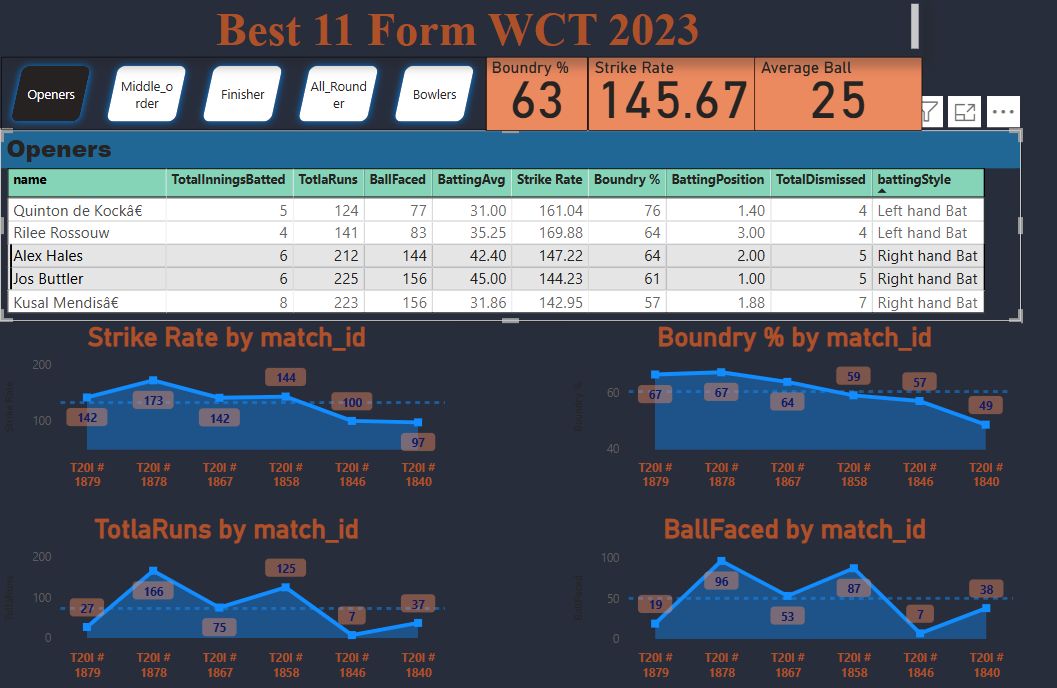

The page's visual inventory and layout, read from the dashboard file:
{"tool":"powerbi","page":{"name":"Openers","canvas":[1280,720],"ordinal":0},"visuals":[{"type":"tableEx","title":"Openers","fields":{"Values":["player.name","measure.TotalInningsBatted","measure.TotlaRuns","measure.BallFaced","measure.BattingAvg","measure.Strike Rate","measure.Boundry %","measure.BattingPosition","measure.TotalDismissed","player.battingStyle"]},"box":[0,136.7,1065,200],"z":0},{"type":"card","title":"Boundry %","fields":{"Values":["measure.Boundry %"]},"box":[506.3,60.7,107.1,77],"z":1000},{"type":"card","title":"Strike Rate","fields":{"Values":["measure.Strike Rate"]},"box":[612.8,60.7,175,77],"z":2000},{"type":"card","title":"Average Ball","fields":{"Values":["measure.AvgBallFaced"]},"box":[787,60.7,175,77],"z":3000},{"type":"areaChart","fields":{"Category":["match.match_id"],"Y":["measure.Strike Rate"]},"box":[0,337.4,472.7,183.3],"z":4000},{"type":"areaChart","fields":{"Category":["match.match_id"],"Y":["measure.Boundry %"]},"box":[592.4,337.4,472,183.3],"z":5000},{"type":"areaChart","fields":{"Category":["match.match_id"],"Y":["measure.TotlaRuns"]},"box":[0,537.4,472.7,181.8],"z":6000},{"type":"areaChart","fields":{"Category":["match.match_id"],"Y":["measure.BallFaced"]},"box":[592.4,537.4,472.7,181.8],"z":7000},{"type":"pageNavigator","box":[1.7,60,506.7,76.7],"z":8000},{"type":"textbox","box":[0,0,963.3,61],"z":9000}]}

Visuals, with their boxes on the page's 1280x720 design canvas (x1, y1, x2, y2). These are canvas units, not pixel positions in the 1057x688 screenshot, which may show the page scaled, cropped or inside an application window:
"Openers" tableEx: (0, 137, 1065, 337)
"Boundry %" card: (506, 61, 613, 138)
"Strike Rate" card: (613, 61, 788, 138)
"Average Ball" card: (787, 61, 962, 138)
areaChart - match.match_id x measure.Strike Rate: (0, 337, 473, 521)
areaChart - match.match_id x measure.Boundry %: (592, 337, 1064, 521)
areaChart - match.match_id x measure.TotlaRuns: (0, 537, 473, 719)
areaChart - match.match_id x measure.BallFaced: (592, 537, 1065, 719)
pageNavigator: (2, 60, 508, 137)
textbox: (0, 0, 963, 61)
